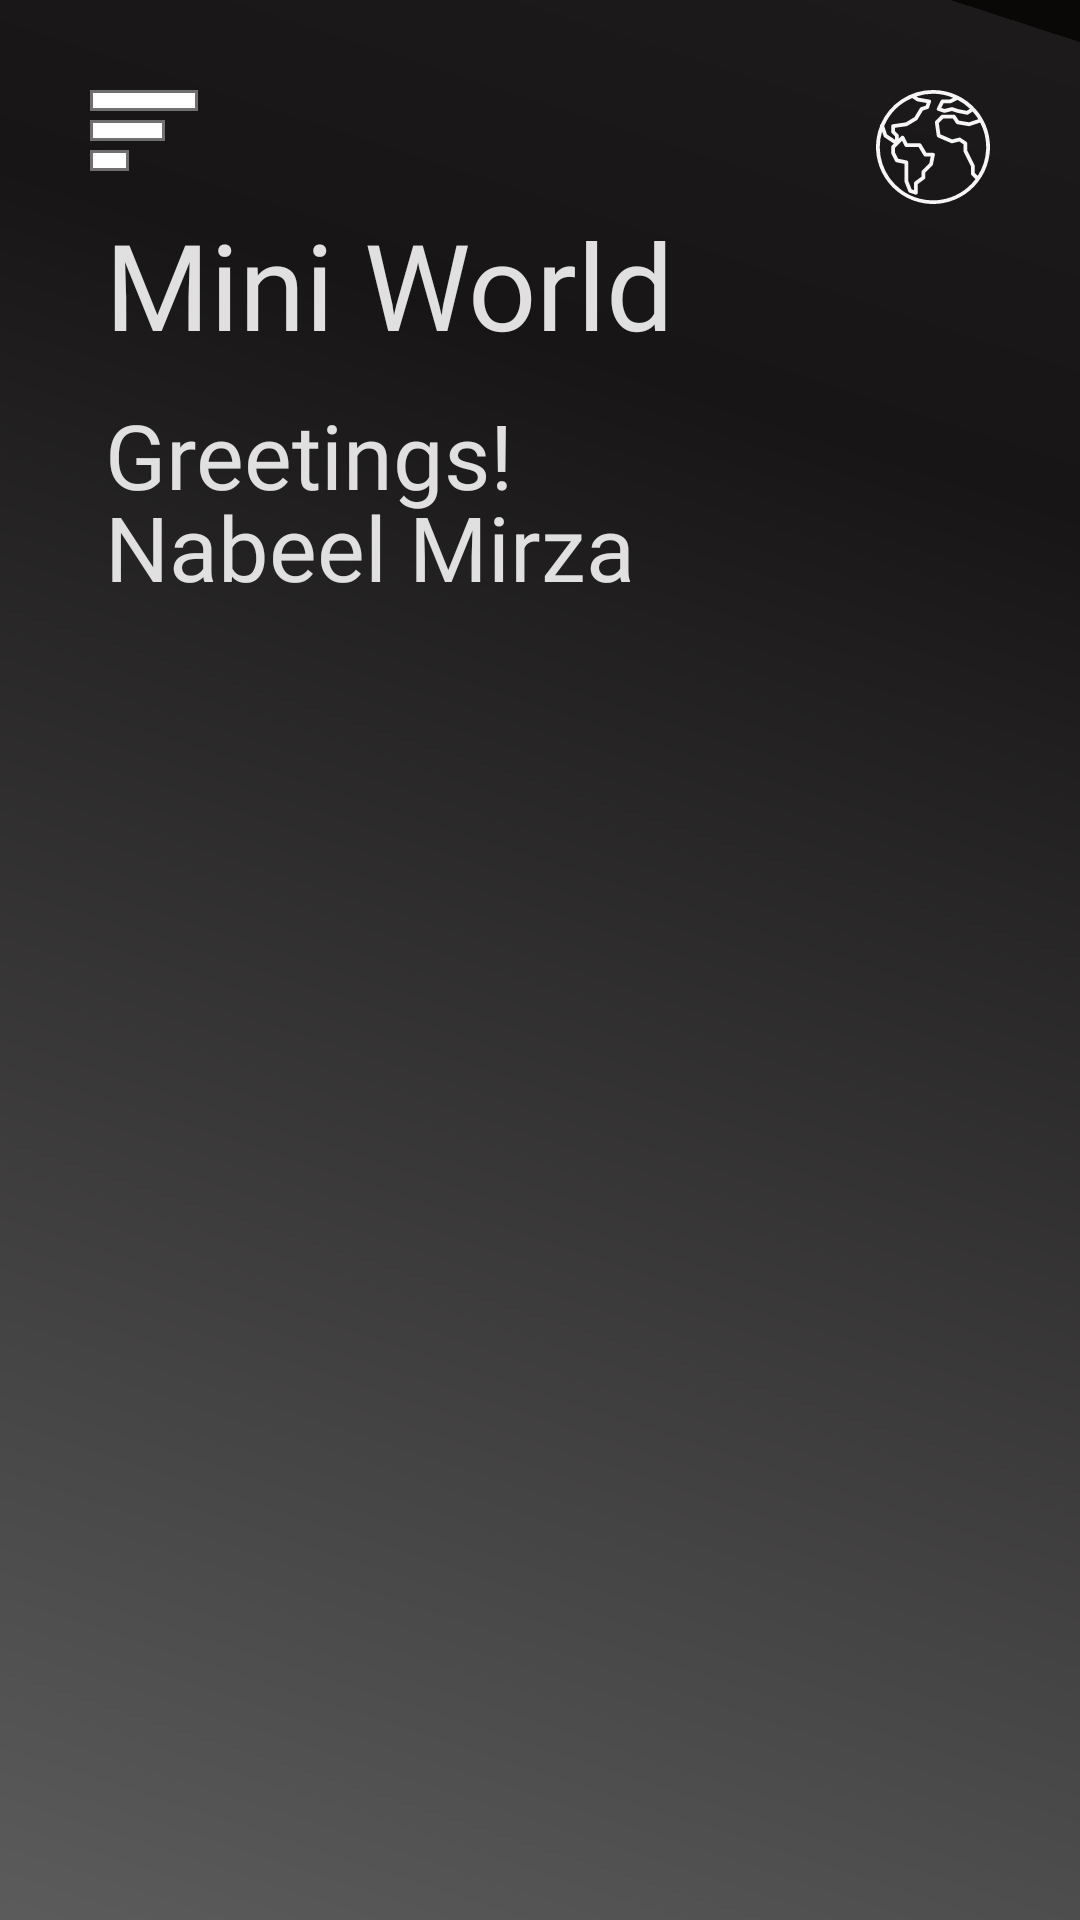

Screen size 1080*1920. Icon name, then its center in pixels as (x=x, y=y):
menubar: (x=144, y=130)
worldwide: (x=933, y=147)
